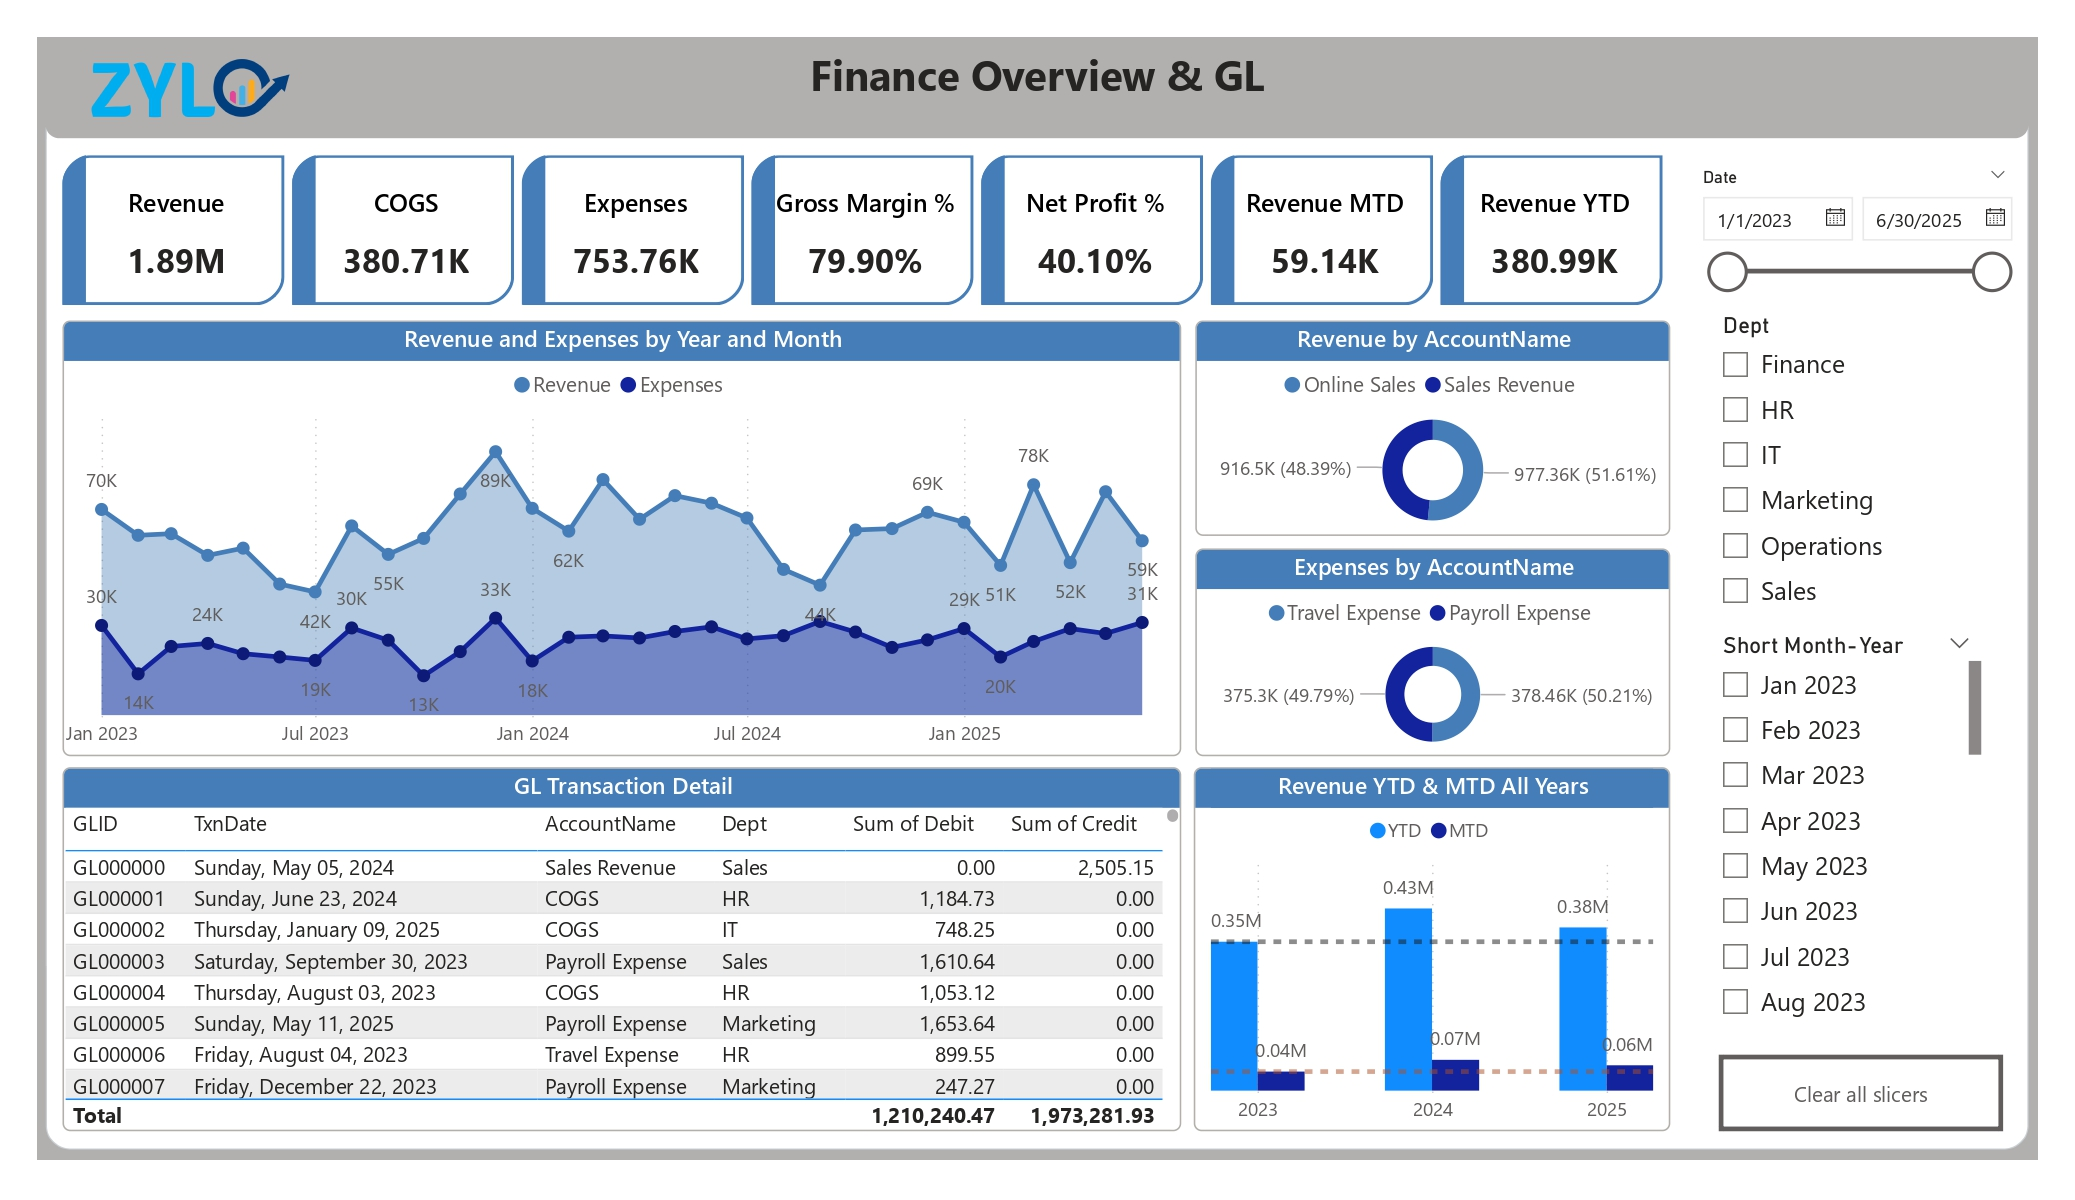

The dashboard page shown, as its layout file describes it:
{"tool":"powerbi","page":{"name":"Finance Overview & GL","canvas":[1280,720],"ordinal":0},"visuals":[{"type":"slicer","fields":{"Values":["Dim_Date.Date"]},"box":[1053.4,77.8,218.8,89.5],"z":0},{"type":"slicer","fields":{"Values":["General-Ledger.Dept"]},"box":[1066,171.2,182.9,205.2],"z":1000},{"type":"lineChart","fields":{"Category":["Dim_Date.Date.Variation.Date Hierarchy.Year","Dim_Date.Date.Variation.Date Hierarchy.Month"],"Y":["_Measures.# Revenue","_Measures.# Expenses"]},"box":[16,181,716,279],"z":3000},{"type":"donutChart","fields":{"Category":["Dim_Account.AccountName"],"Y":["_Measures.# Revenue"]},"box":[741,181,304,138],"z":4000},{"type":"donutChart","fields":{"Category":["Dim_Account.AccountName"],"Y":["_Measures.# Expenses"]},"box":[741,327,304,133],"z":5000},{"type":"clusteredColumnChart","title":"Revenue YTD & MTD All Years","fields":{"Y":["_Measures.# Revenue YTD Same Period (All Years)","_Measures.# Revenue MTD Same Period (All Years)"],"Category":["Dim_Date.Year"]},"box":[740,467,305,233],"z":6000},{"type":"slicer","fields":{"Values":["Dim_Date.Short Month-Year"]},"box":[1066,376.4,182.9,256.8],"z":7000},{"type":"textbox","box":[344.3,0,591.4,60],"z":7001},{"type":"cardVisual","fields":{"Data":["_Measures.# Revenue","_Measures.# COGS","_Measures.# Expenses","_Measures.# Gross Margin %","_Measures.# Net Profit %","_Measures.# Revenue MTD","_Measures.# Revenue YTD"]},"box":[5.8,65.2,1047.5,115.7],"z":7002},{"type":"actionButton","box":[1075.7,650.7,181.9,49.6],"z":7003},{"type":"tableEx","title":"GL Transaction Detail","fields":{"Values":["General-Ledger.GLID","General-Ledger.TxnDate","Dim_Account.AccountName","General-Ledger.Dept","Sum(General-Ledger.Debit)","Sum(General-Ledger.Credit)"]},"box":[16,467,716,233],"z":7004}]}

Visuals, with their boxes on the page's 1280x720 design canvas (x1, y1, x2, y2). These are canvas units, not pixel positions in the 2075x1200 screenshot, which may show the page scaled, cropped or inside an application window:
slicer - Dim_Date.Date: 1053,78,1272,167
slicer - General-Ledger.Dept: 1066,171,1249,376
lineChart - Dim_Date.Date.Variation.Date Hierarchy.Year x Dim_Date.Date.Variation.Date Hierarchy.Month: 16,181,732,460
donutChart - Dim_Account.AccountName x _Measures.# Revenue: 741,181,1045,319
donutChart - Dim_Account.AccountName x _Measures.# Expenses: 741,327,1045,460
"Revenue YTD & MTD All Years" clusteredColumnChart: 740,467,1045,700
slicer - Dim_Date.Short Month-Year: 1066,376,1249,633
textbox: 344,0,936,60
cardVisual - _Measures.# Revenue x _Measures.# COGS: 6,65,1053,181
actionButton: 1076,651,1258,700
"GL Transaction Detail" tableEx: 16,467,732,700
